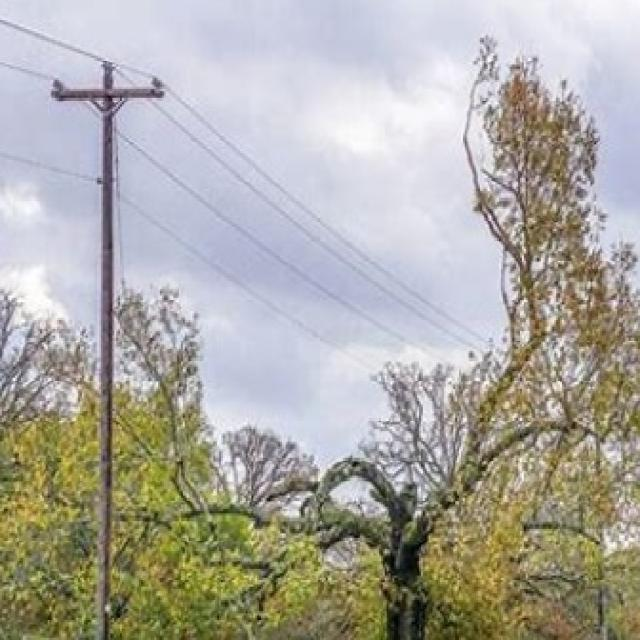utility poles: (46, 43, 165, 640)
